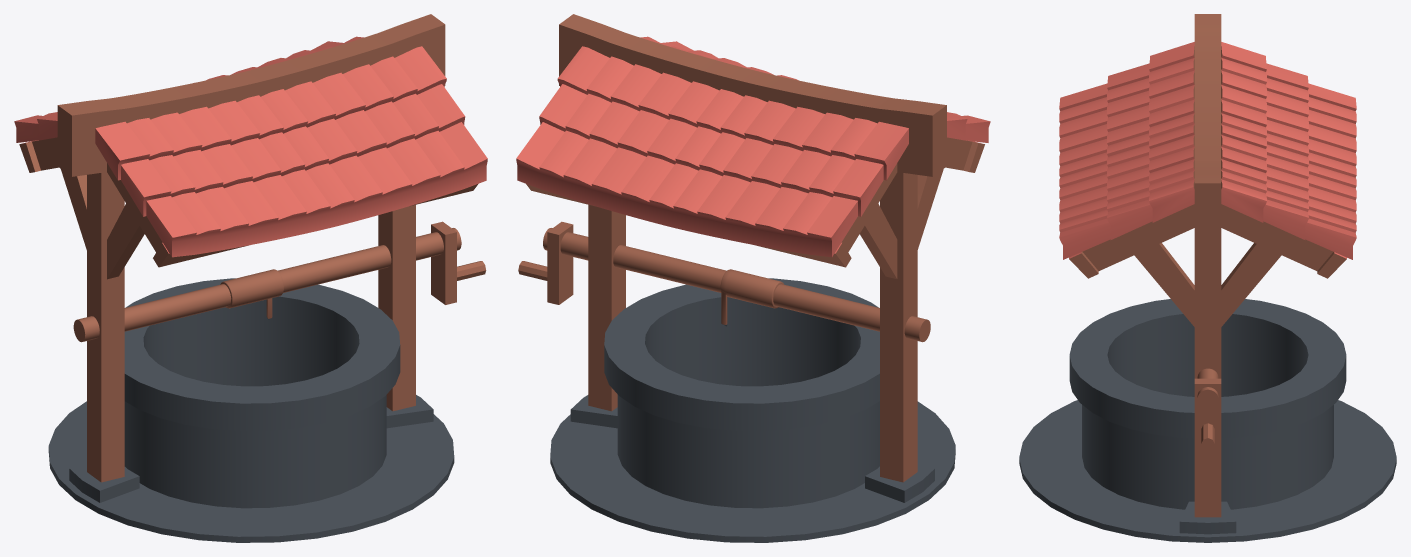
Rendered from Well(With-texture).fbx.
The picture shows the model from 3 angles, left to right: view 1: azimuth 30°, elevation 25°; view 2: azimuth 150°, elevation 25°; view 3: azimuth 270°, elevation 25°; orthographic projection. The views are drawn at different scales.
Visible parts, largest first — view 1: Will; view 2: Will; view 3: Will.
Boxes of the visible parts, x1=… form: Will: x1=14, y1=14, x2=487, y2=542; Will: x1=516, y1=14, x2=990, y2=542; Will: x1=1019, y1=14, x2=1396, y2=542.
Bounding box in the file's own units: 713 × 640 × 601.
